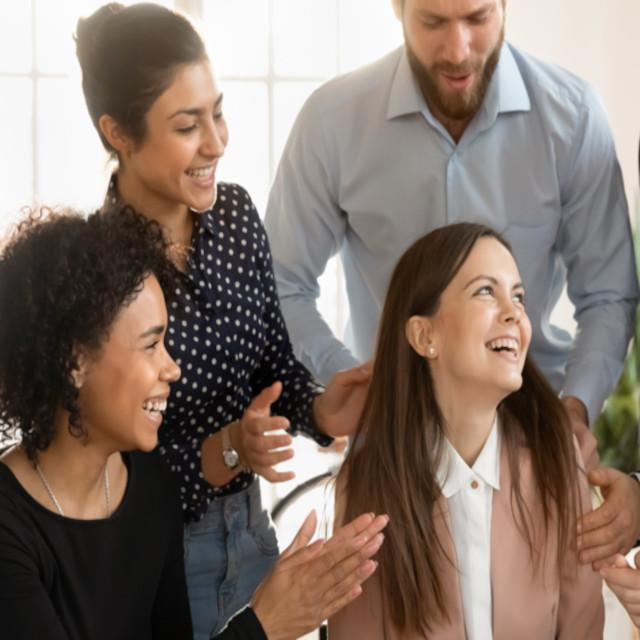kobieta: (73, 0, 275, 546), (339, 219, 594, 640), (0, 213, 190, 639)
mezczyzna: (288, 0, 640, 379)
